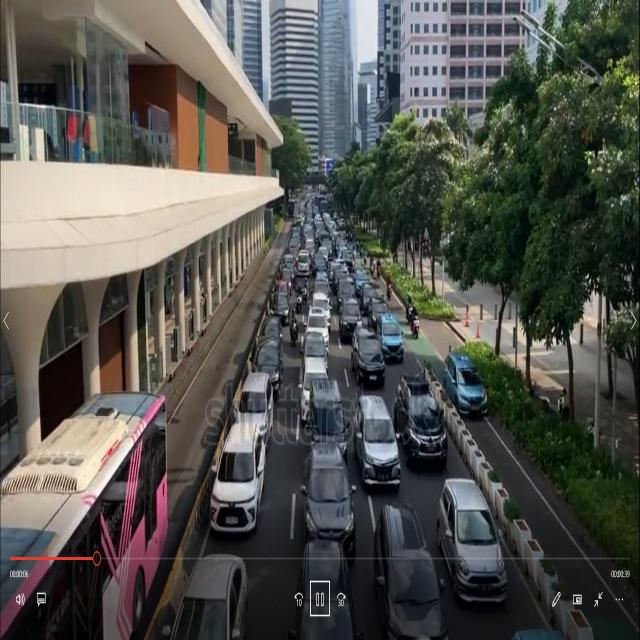Ambulance: (295, 246, 312, 276)
